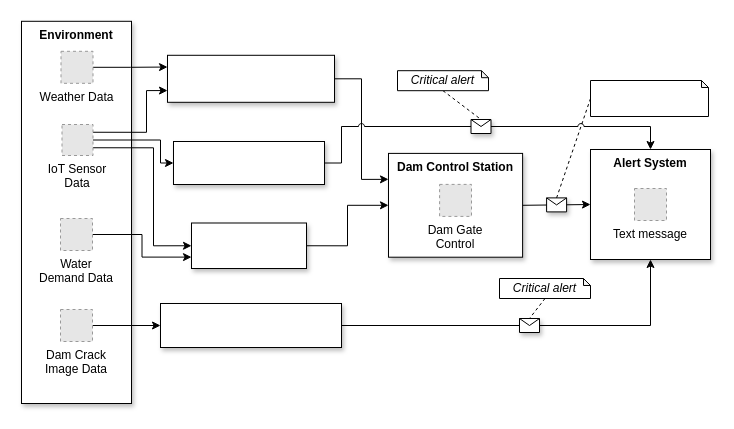
The diagram is 734 pixels wide and 429 high, and some of its shapes have lost their labels. Grey dashed boxes stand in for pictures. Each missing label, with the centre of its shape:
Dam Crack Analysis and Monitoring: point 252,326
Dam Gate Automation: point 249,247
Flood Prediction and Prevention: point 251,79
Hydro Power Optimization: point 249,164
Sluice gate opening alert: point 649,98
